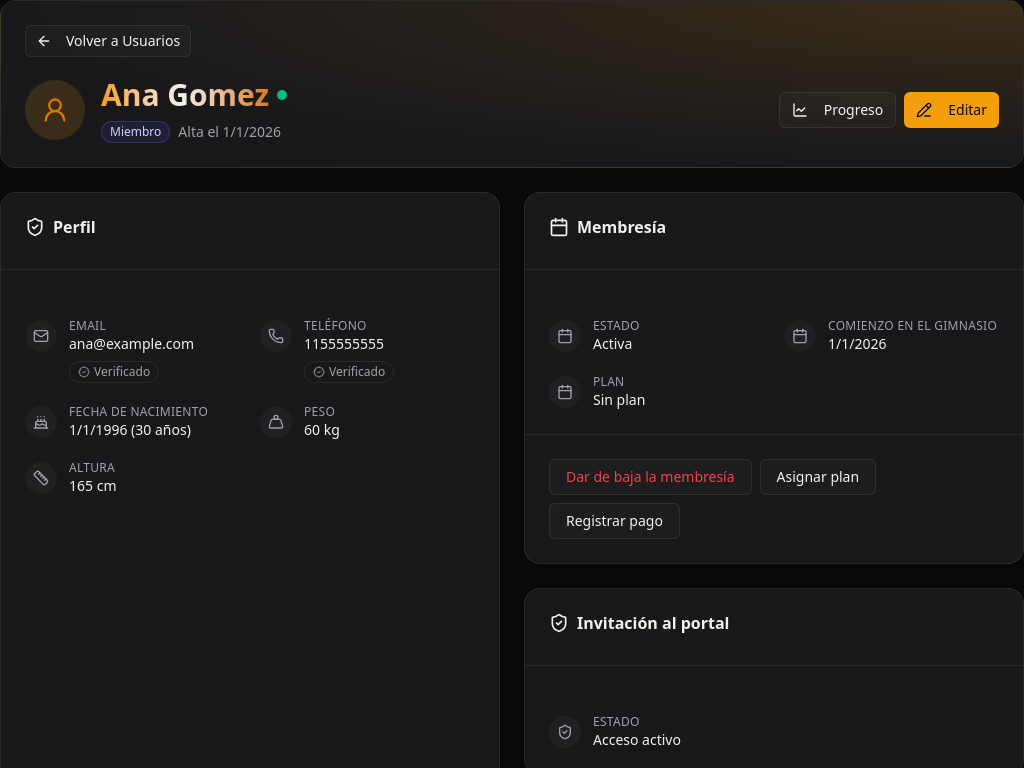
Test: ficha de detalle de un usuario › acciones de membresia desde la ficha › da de baja la membresia desde el modal de confirmacion y refleja el nuevo estado
Expected: the heading "Ana Gomez" is shown, x1=101 y1=77 x2=269 y2=113
Click the button "Dar de baja la membresía" at (650,477), box x1=549 y1=459 x2=752 y2=495
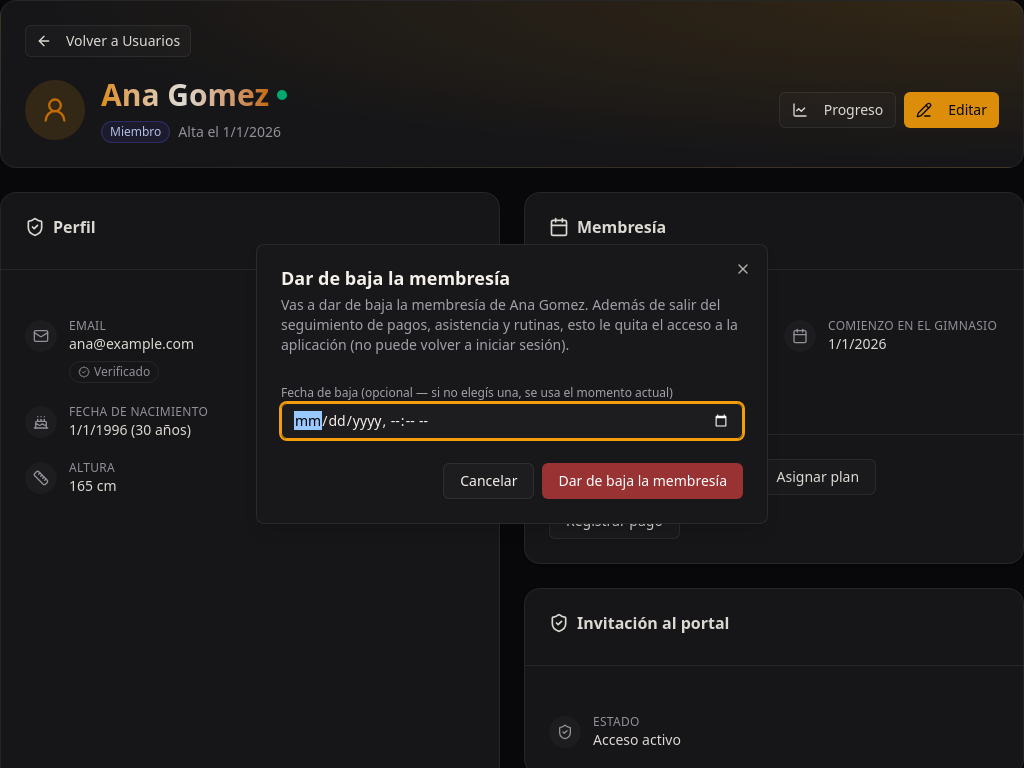
Click the button "Dar de baja la membresía" at (643,481), box x1=542 y1=463 x2=743 y2=499
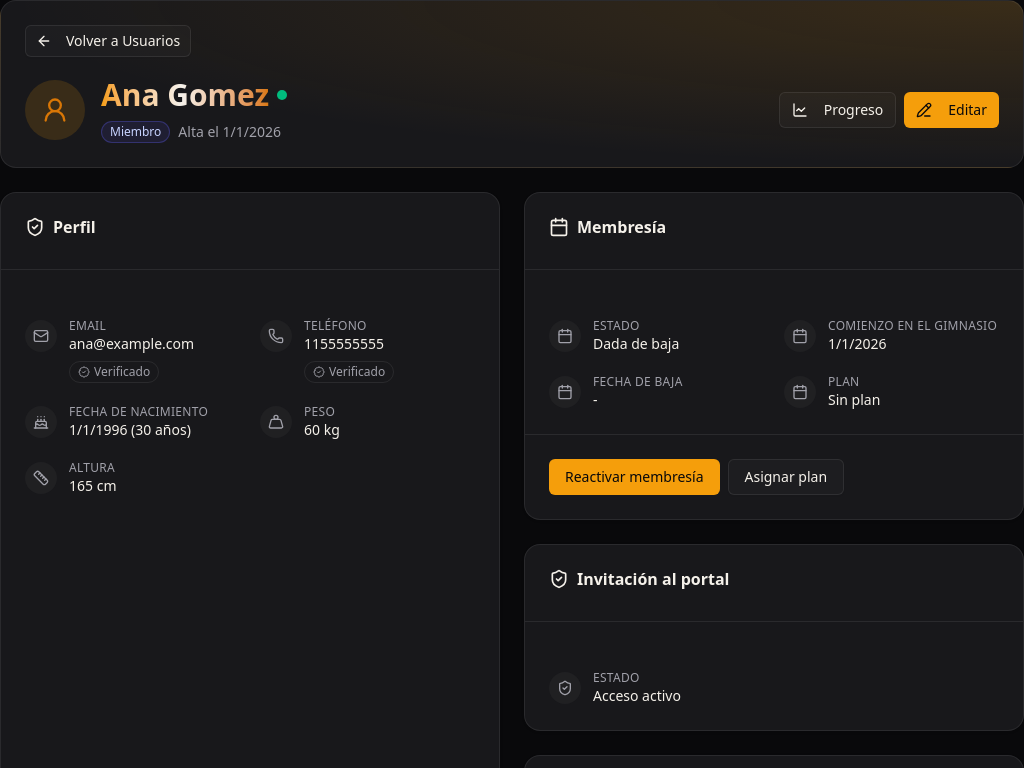
Now the button "Reactivar membresía" is shown, box x1=549 y1=459 x2=720 y2=495
